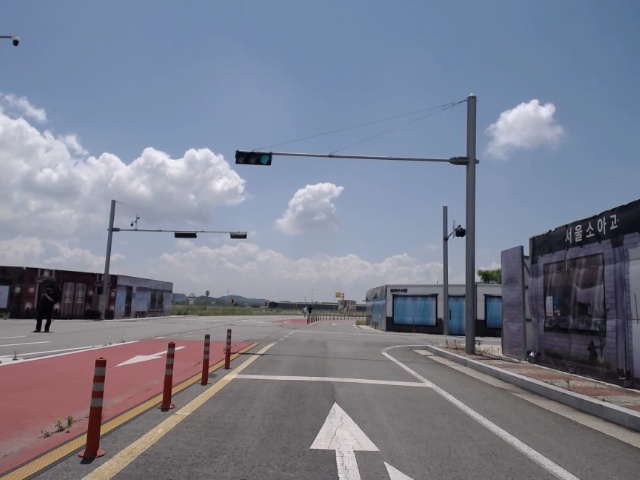green_3: (237, 152, 272, 165)
